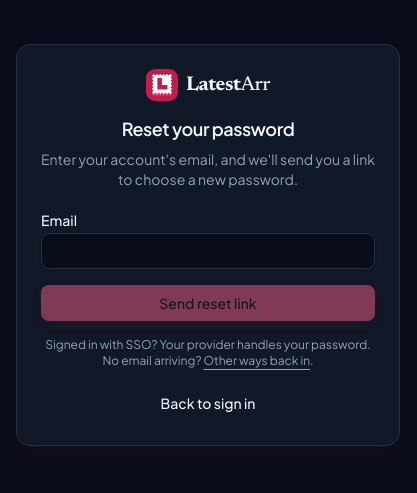
Scenario: ForgotPasswordPage › explains being rate limited
Type "sam@example.com" into the field labelled "Email" at [208, 251], box left=41, top=233, right=375, bottom=269
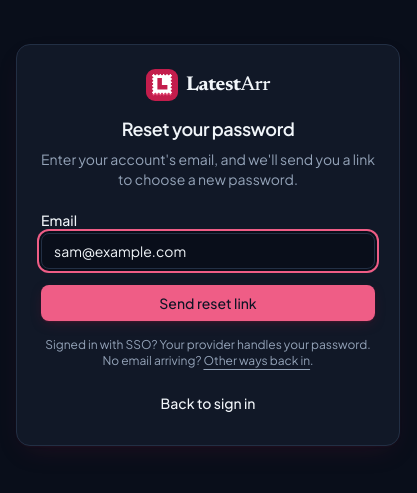
Click the button "Send reset link" at [208, 303], box left=41, top=285, right=375, bottom=321
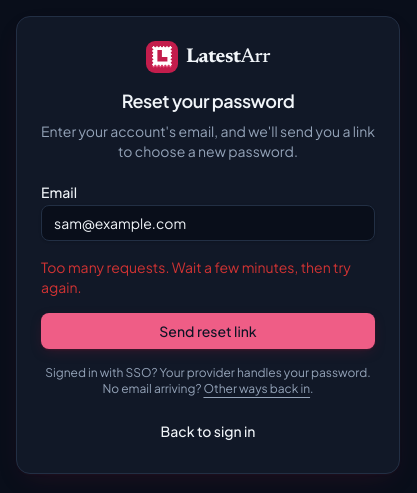
expect the message shows "Wait a few minutes": met, box left=41, top=258, right=351, bottom=296
